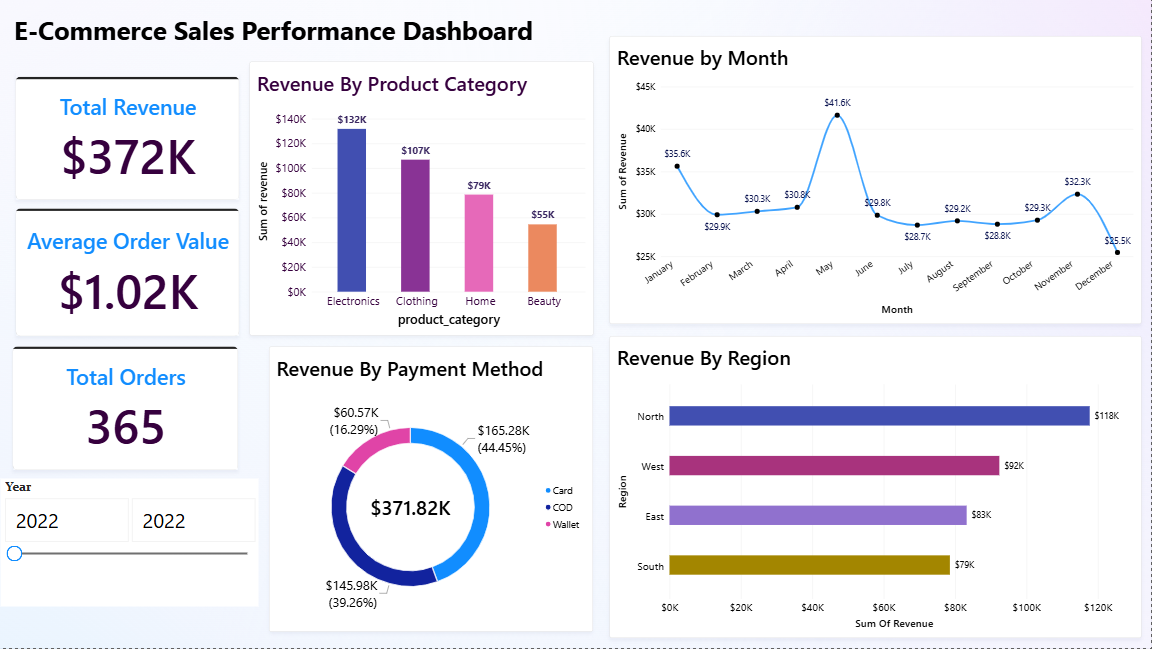

This screenshot's page, from the dashboard's own definition file:
{"tool":"powerbi","page":{"name":"Page 1","canvas":[1920,1080],"ordinal":0},"visuals":[{"type":"cardVisual","fields":{"Data":["Sum(ecommerce_project sales.revenue)"]},"box":[26.7,120,373.3,213.3],"z":0},{"type":"cardVisual","fields":{"Data":["CountNonNull(ecommerce_project sales.order_id)"]},"box":[23.3,576.7,376.7,206.7],"z":1000},{"type":"cardVisual","fields":{"Data":["Avg(ecommerce_project sales.revenue)"]},"box":[26.7,346.7,373.3,213.3],"z":2000},{"type":"clusteredColumnChart","title":"Revenue By Product Category","fields":{"Category":["ecommerce_project sales.product_category"],"Y":["Sum(ecommerce_project sales.revenue)"]},"box":[416.7,103.3,573.3,456.7],"z":3000},{"type":"clusteredBarChart","title":"Revenue By Region","fields":{"Y":["Sum(ecommerce_project sales.revenue)"],"Category":["ecommerce_project sales.region"]},"box":[1016.7,560,886.7,503.3],"z":4000},{"type":"lineChart","title":"Revenue by Month","fields":{"Y":["Sum(ecommerce_project sales.revenue)"],"Category":["ecommerce_project sales.order_date.Variation.Date Hierarchy.Month"]},"box":[1016.7,60,886.7,480],"z":5000},{"type":"textbox","box":[26.2,19.1,1083.2,83.5],"z":5001},{"type":"slicer","fields":{"Values":["ecommerce_project sales.order_date.Variation.Date Hierarchy.Year"]},"box":[3.3,796.7,430,213.3],"z":5002},{"type":"donutChart","title":"Revenue By Payment Method","fields":{"Category":["ecommerce_project sales.payment_method"],"Y":["Sum(ecommerce_project sales.revenue)"]},"box":[450,577.5,540,475],"z":5003}]}

Visuals, with their boxes in screenshot pixels (x1, y1, x2, y2), scaled from the page's 1920x1080 canvas onto the 1152x649 screenshot:
cardVisual - Sum(ecommerce_project sales.revenue): 16,72,240,200
cardVisual - CountNonNull(ecommerce_project sales.order_id): 14,347,240,471
cardVisual - Avg(ecommerce_project sales.revenue): 16,208,240,337
"Revenue By Product Category" clusteredColumnChart: 250,62,594,337
"Revenue By Region" clusteredBarChart: 610,337,1142,639
"Revenue by Month" lineChart: 610,36,1142,324
textbox: 16,11,666,62
slicer - ecommerce_project sales.order_date.Variation.Date Hierarchy.Year: 2,479,260,607
"Revenue By Payment Method" donutChart: 270,347,594,632
